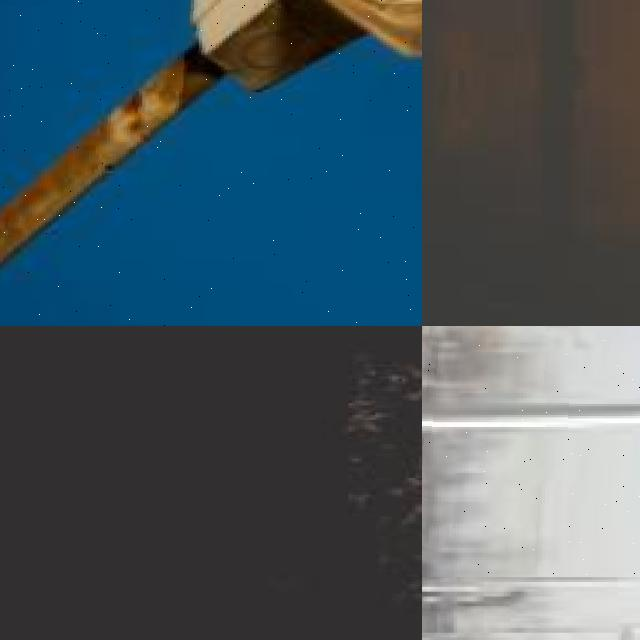street light: (0, 0, 422, 326), (422, 326, 640, 577), (422, 473, 640, 640), (422, 550, 640, 640)
